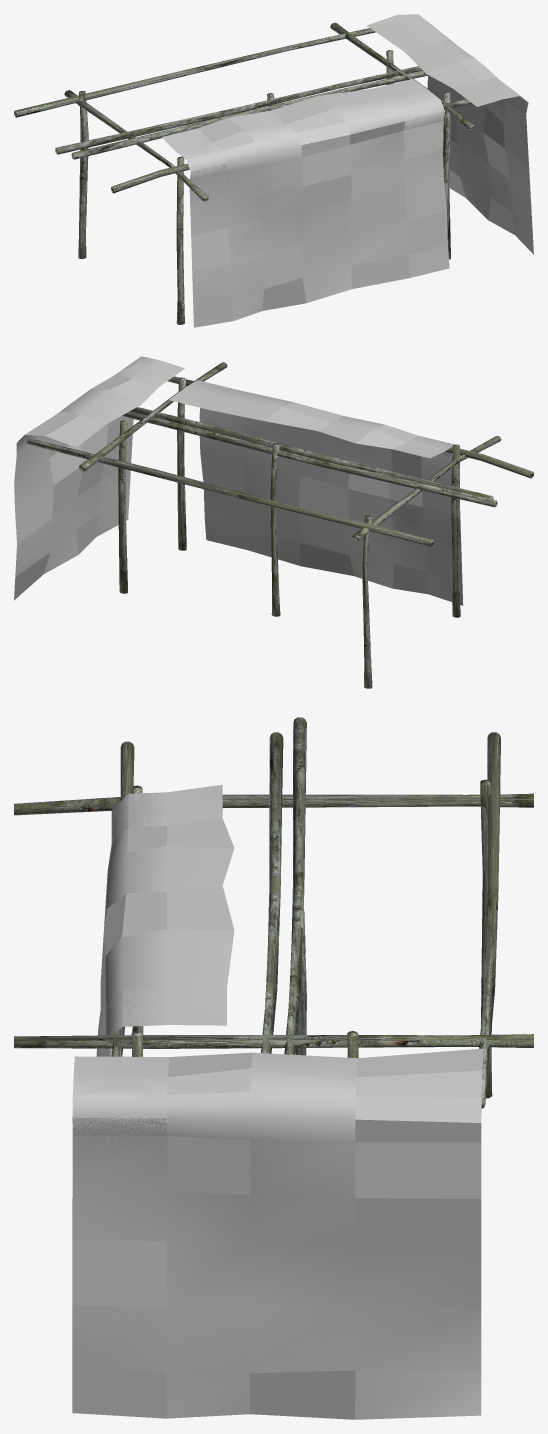
File: shanty18.fbx
3 views of the same model, one above another, from view 1: azimuth 30°, elevation 25°; view 2: azimuth 150°, elevation 25°; view 3: azimuth 270°, elevation 25° (orthographic). The views are drawn at different scales.
Visible parts, largest first — view 1: shanty9_coverA, shanty9_coverB, shanty9; view 2: shanty9_coverA, shanty9_coverB, shanty9; view 3: shanty9_coverA, shanty9_coverB, shanty9.
Part boxes in pixels (bbox=[...]): shanty9_coverA: bbox=[162, 39, 533, 320]; shanty9_coverB: bbox=[162, 14, 532, 327]; shanty9: bbox=[14, 22, 474, 324]; shanty9_coverA: bbox=[14, 356, 463, 605]; shanty9_coverB: bbox=[14, 356, 462, 600]; shanty9: bbox=[27, 362, 533, 688]; shanty9_coverA: bbox=[72, 784, 481, 1419]; shanty9_coverB: bbox=[72, 785, 483, 1419]; shanty9: bbox=[14, 717, 533, 1108].
Bounding box in the file's own units: 226 × 87.18 × 127.
